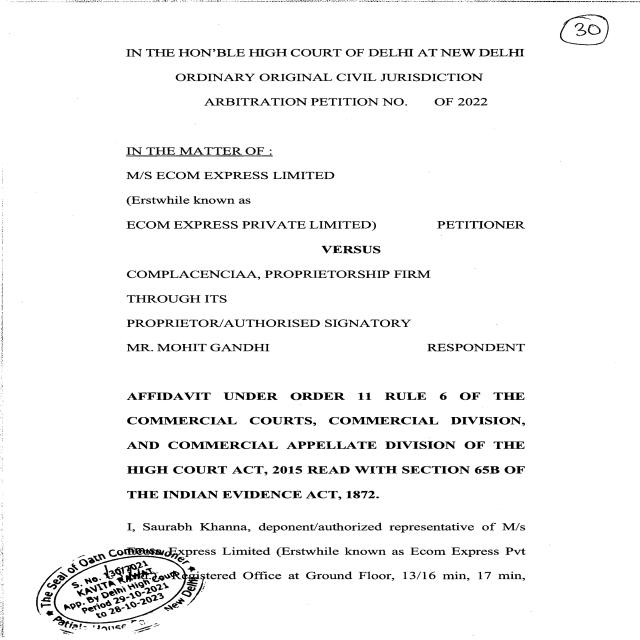page-number: (529, 2, 640, 93)
